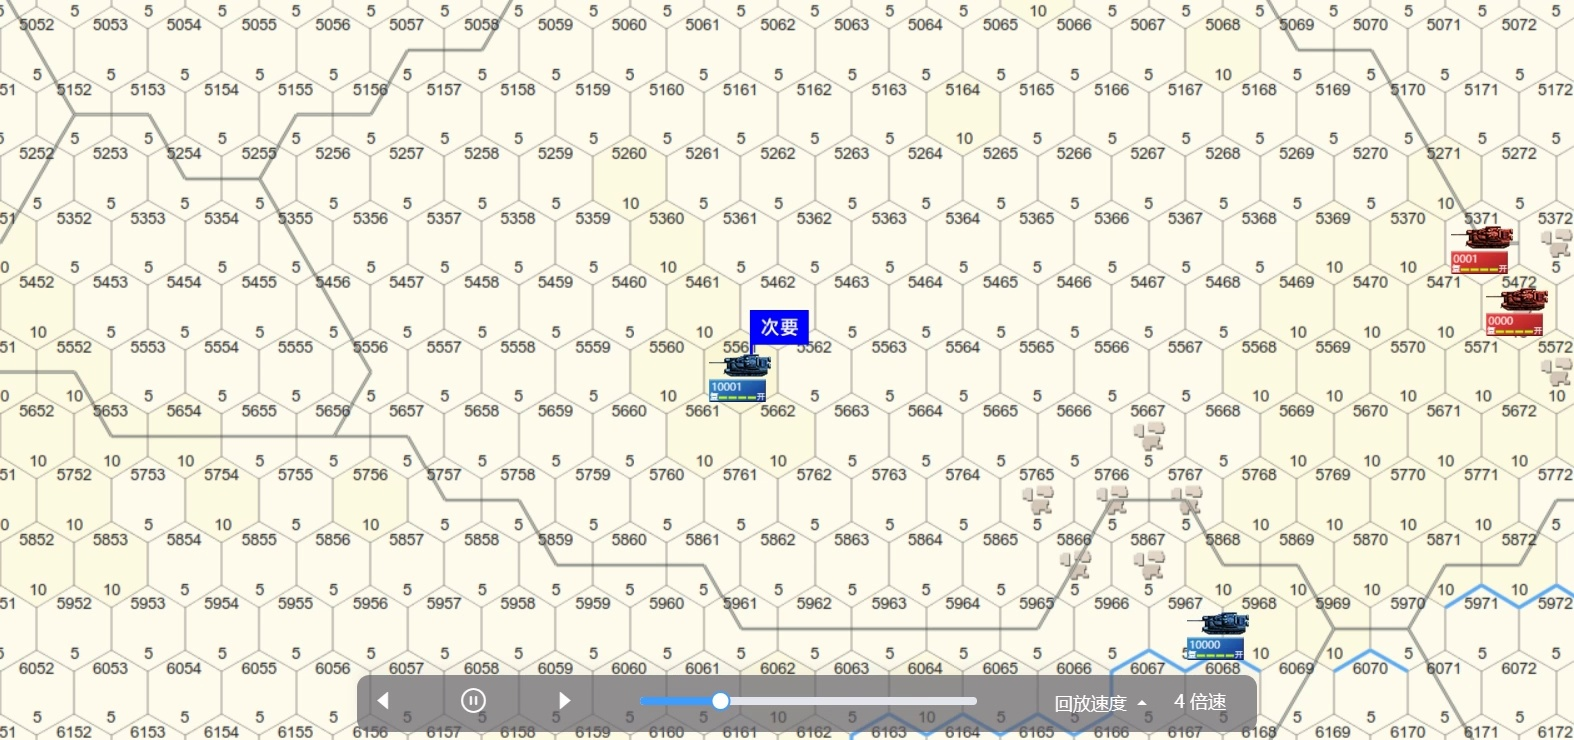blue_tank: (714, 351, 771, 406), (1189, 608, 1252, 654)
red_tank: (1483, 289, 1550, 342), (1451, 225, 1514, 272)
